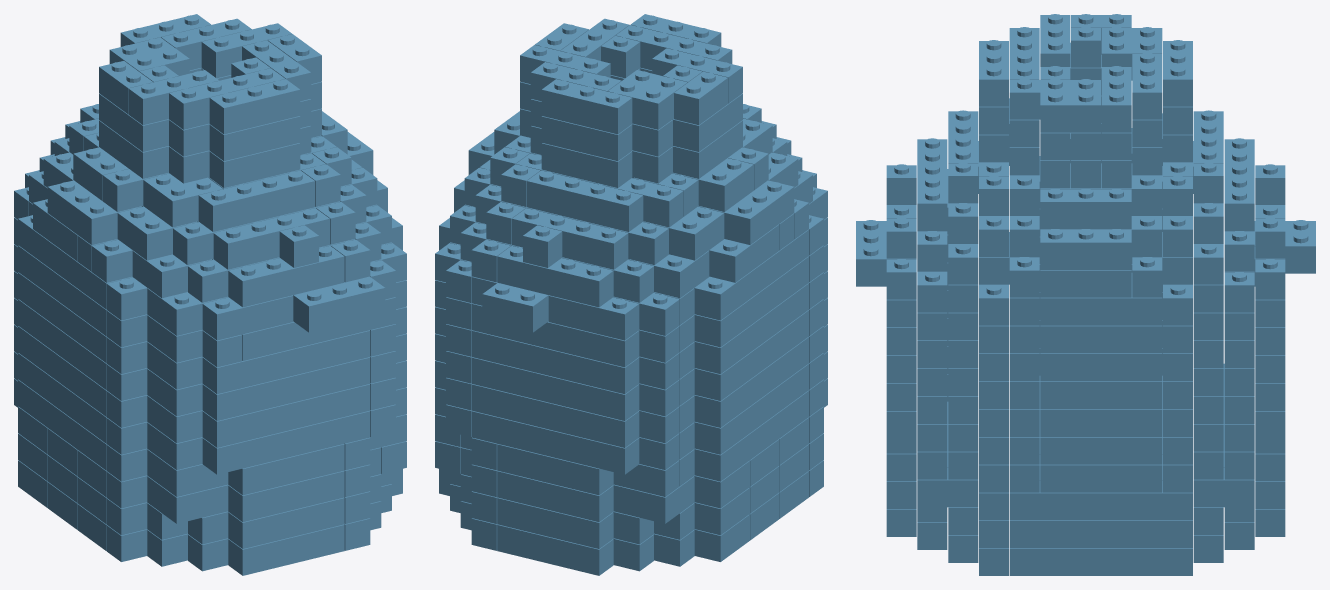
File: 087_bottle_L2.glb
3 views of the same model, side by side, from view 1: azimuth 30°, elevation 25°; view 2: azimuth 150°, elevation 25°; view 3: azimuth 270°, elevation 25° (orthographic). The views are drawn at different scales.
Bounding box in the file's own units: 10.98 × 16.13 × 14.98.
